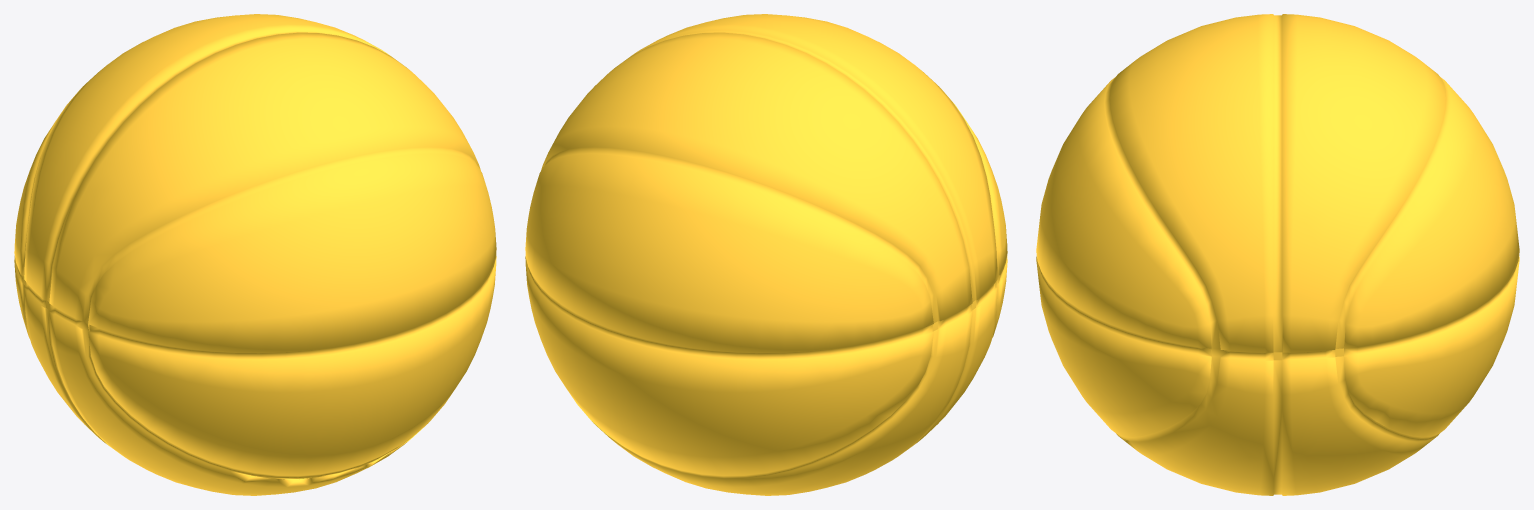
File: goldenBall.dae
3 views of the same model, side by side, from view 1: azimuth 30°, elevation 25°; view 2: azimuth 150°, elevation 25°; view 3: azimuth 270°, elevation 25° (orthographic).
Visible parts, largest first — view 1: basketball; view 2: basketball; view 3: basketball.
Boxes of the visible parts, bbox=[...] form: basketball: bbox=[14, 14, 496, 495]; basketball: bbox=[525, 14, 1007, 495]; basketball: bbox=[1036, 14, 1519, 495].
Size of the model in its own units: 0.965 by 0.9654 by 0.9679.
